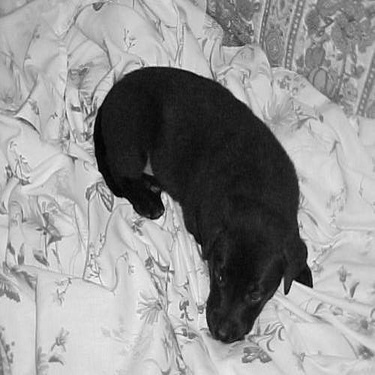dog: (79, 55, 317, 345)
